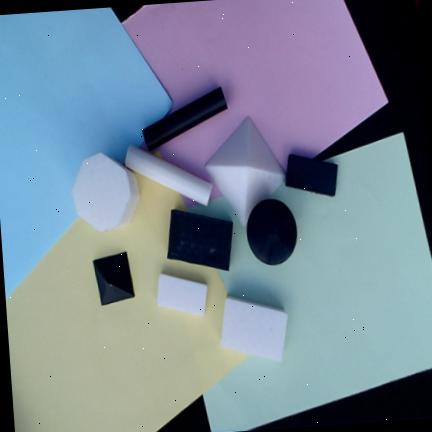Cilindro: (124, 144, 213, 207), (141, 86, 227, 150)
Esfera: (246, 198, 296, 264)
Paralelepipedo: (219, 295, 287, 362), (167, 208, 233, 272), (285, 153, 338, 196), (156, 273, 207, 315)
Piramide: (203, 114, 286, 228), (93, 250, 134, 305)
Prisma_hexagonal: (72, 152, 141, 232)
